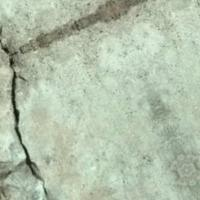crack: (0, 31, 72, 199)
